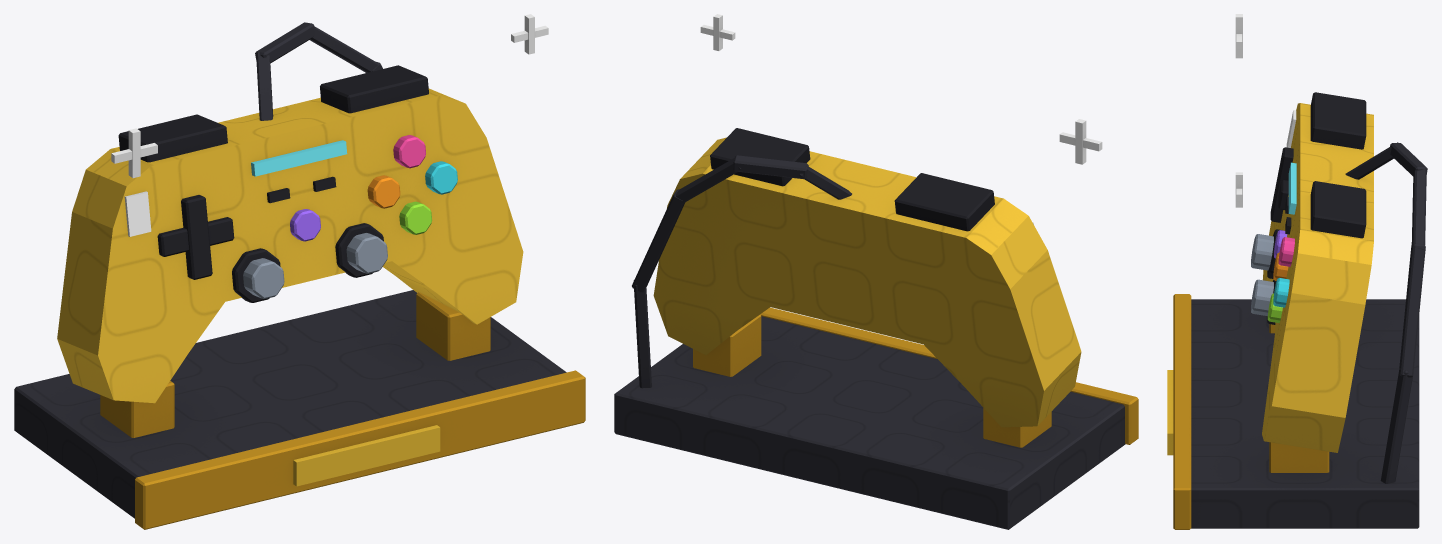
The model's file is GoldenGamepad.fbx.
3 views of the same model, side by side, from view 1: azimuth 30°, elevation 25°; view 2: azimuth 150°, elevation 25°; view 3: azimuth 270°, elevation 25° (orthographic). The views are drawn at different scales.
Parts seen in each view (by area): view 1: Art_GoldenGamepad; view 2: Art_GoldenGamepad; view 3: Art_GoldenGamepad.
Part boxes in pixels (x1,y1,x2,y2): Art_GoldenGamepad: [14, 14, 585, 529]; Art_GoldenGamepad: [614, 14, 1138, 529]; Art_GoldenGamepad: [1167, 14, 1427, 529].
Size of the model in its own units: 3.08 by 2.57 by 1.74.
